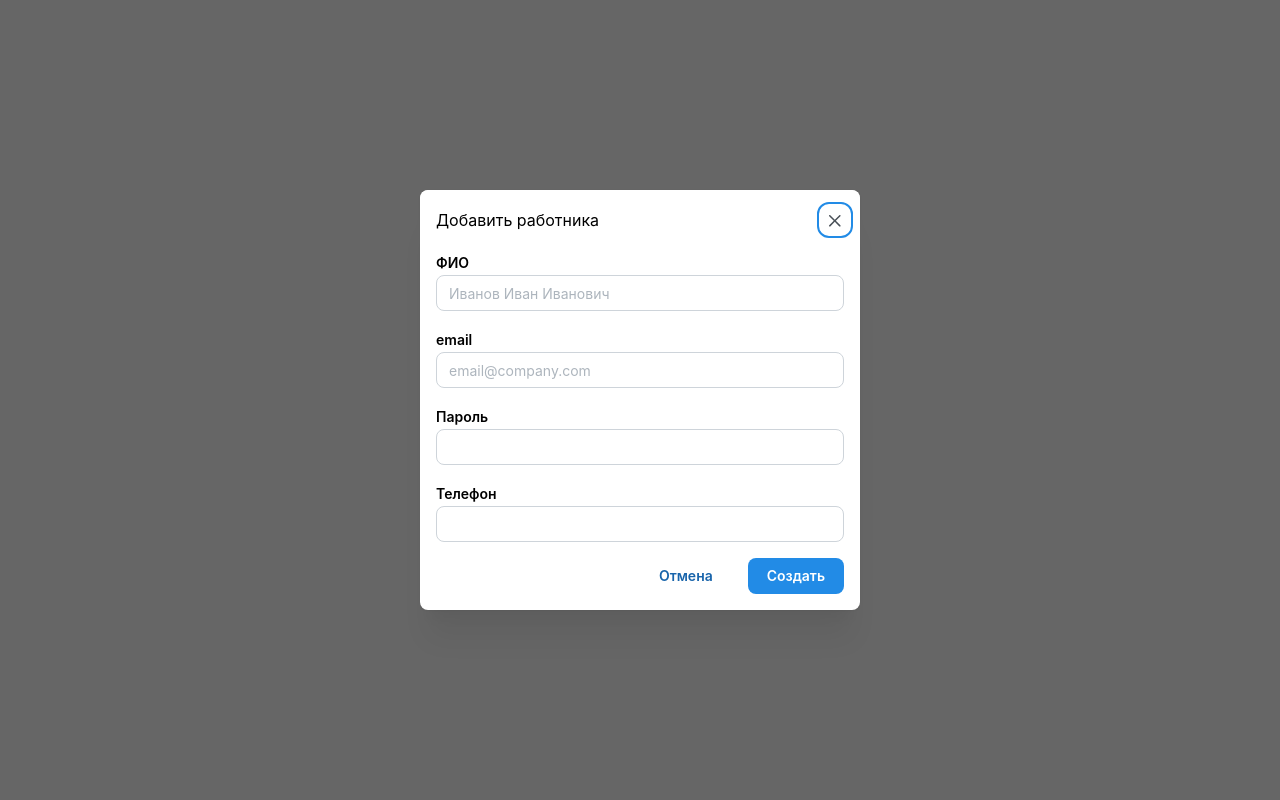
AddWorkersModal › показывает ошибку сервера, если регистрация не удалась
This screenshot has width=1280, height=800.
# Заполняем форму
Step 1. Type "Иван Иванов" into the field labelled "ФИО" → (640, 293), box [436,275,844,311]
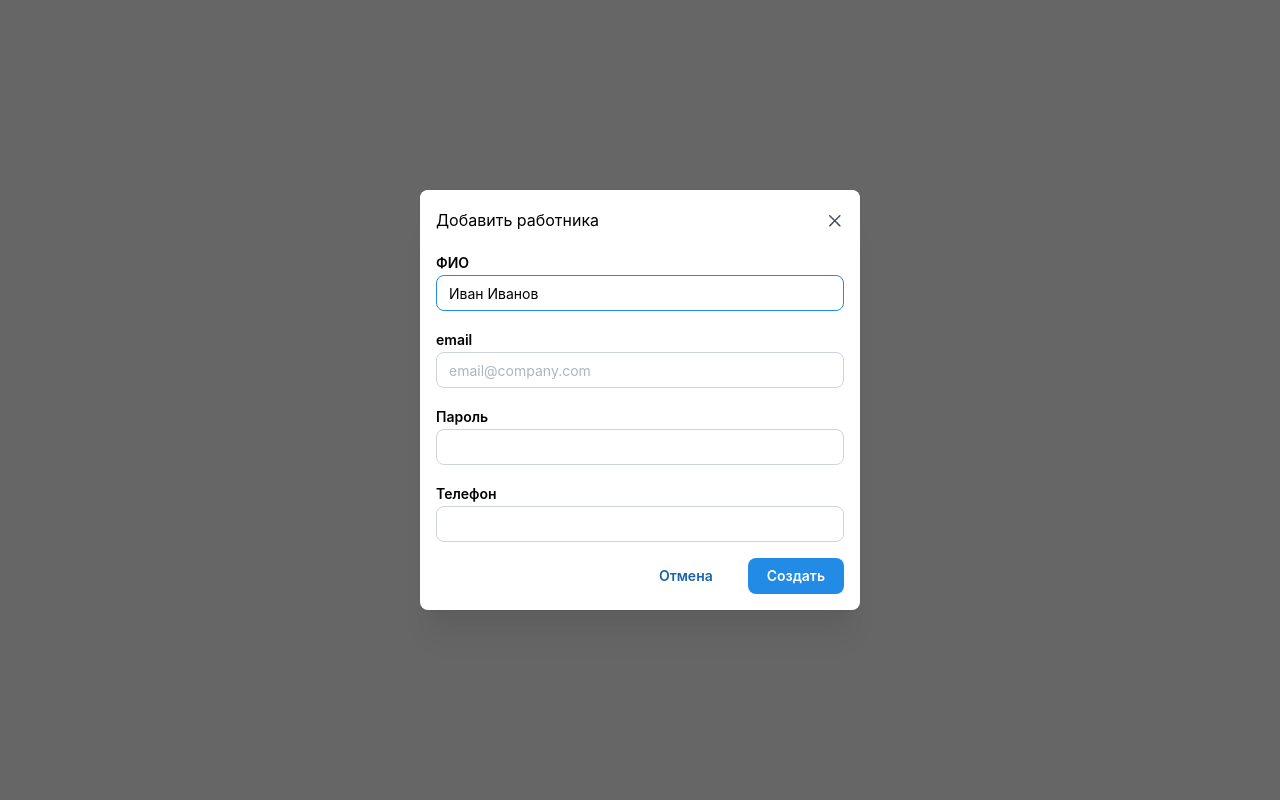
Step 2. Type "ivan@example.com" into the field labelled "email" → (640, 370), box [436,352,844,388]
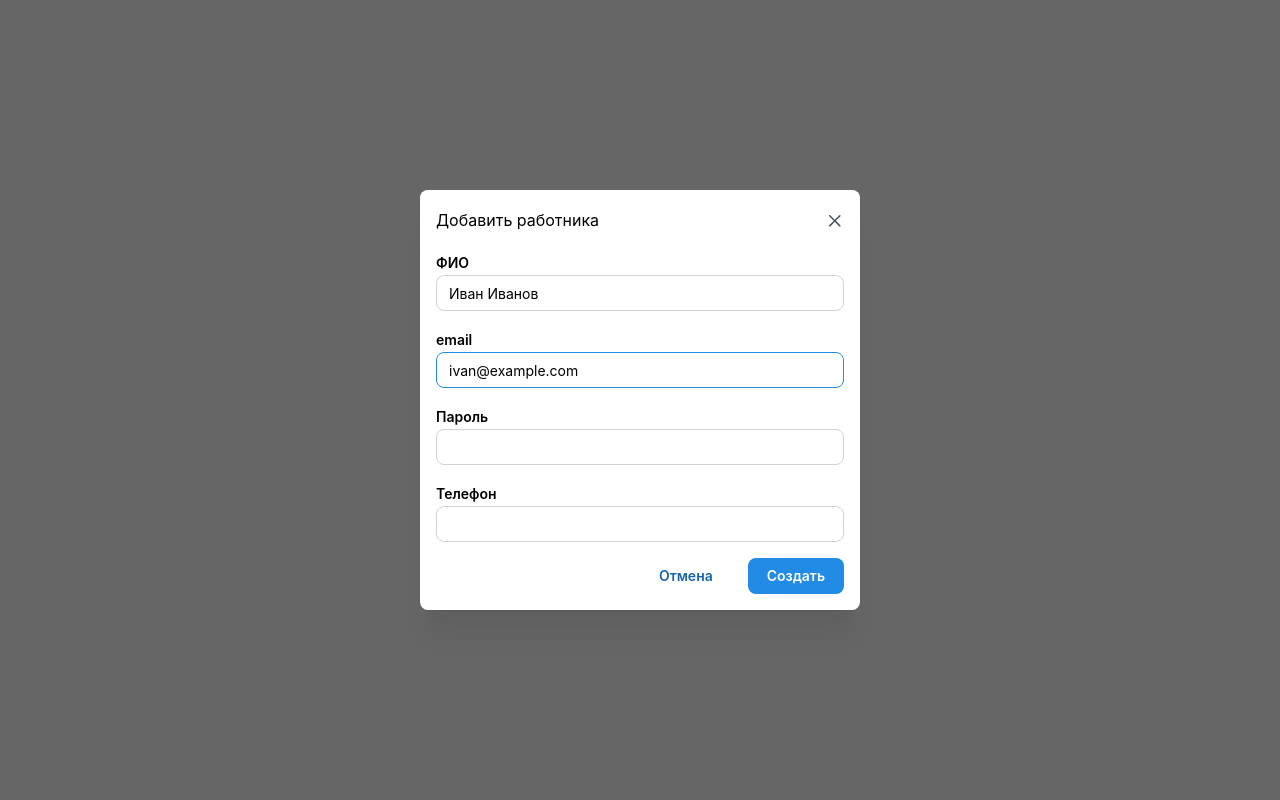
Step 3. Type "password123" into the field labelled "Пароль" → (640, 447), box [436,429,844,465]
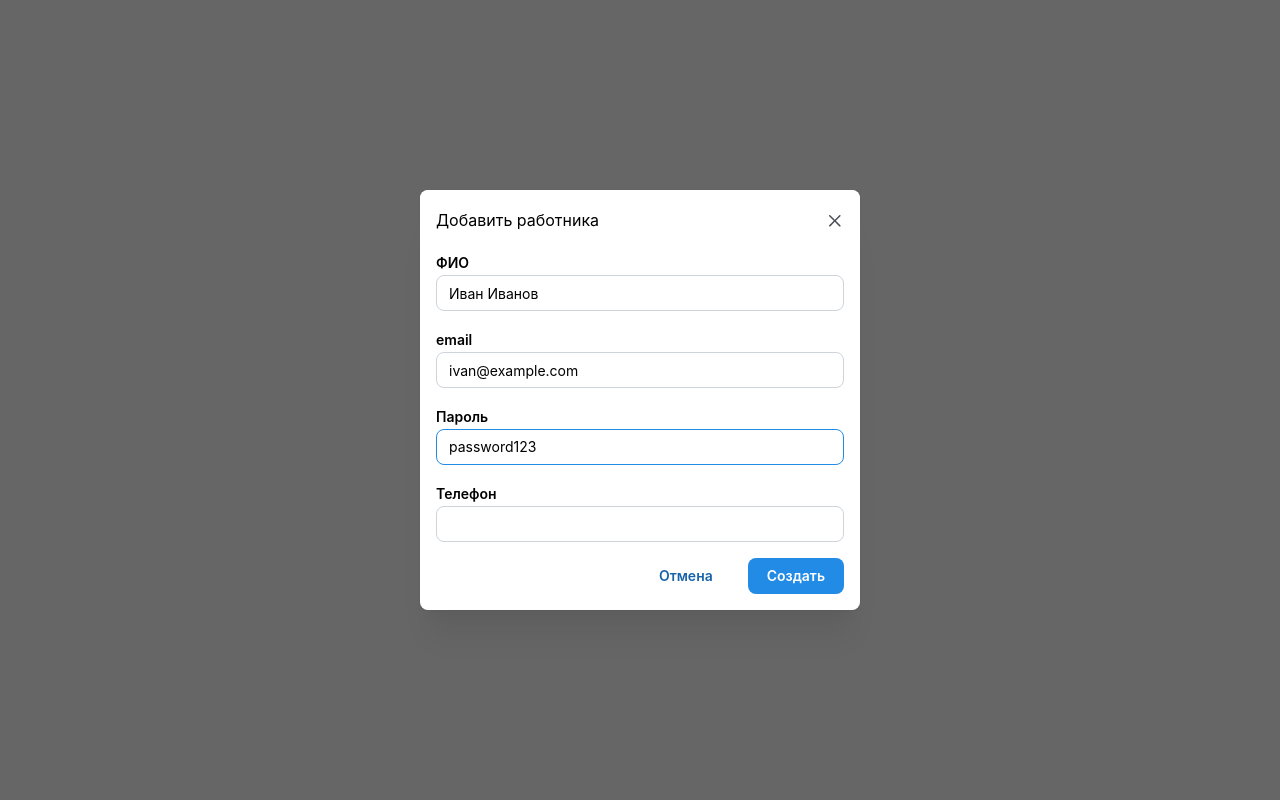
# Отправляем форму
Step 4. Click the button "Создать" → (796, 576), box [748,558,844,594]
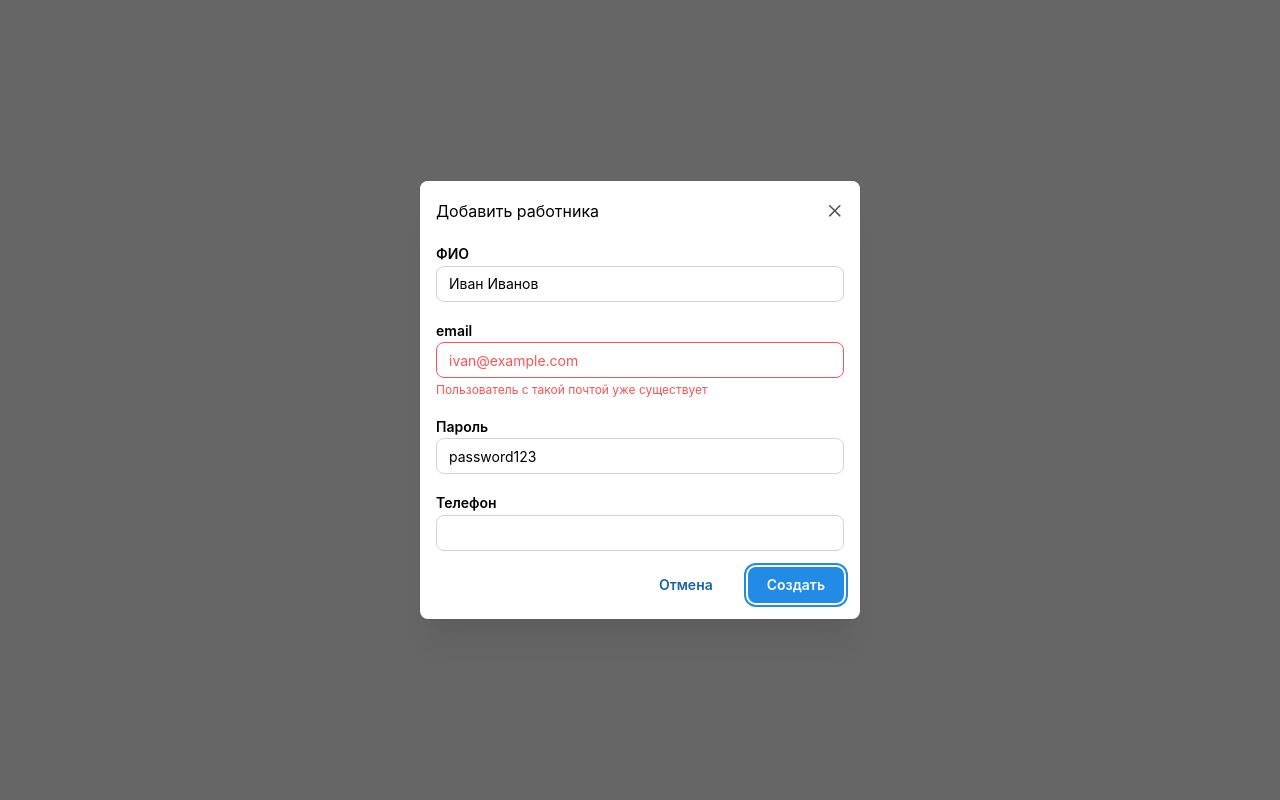
Check: the text "Пользователь с такой почтой уже существует" is shown, box [436,382,708,397]
